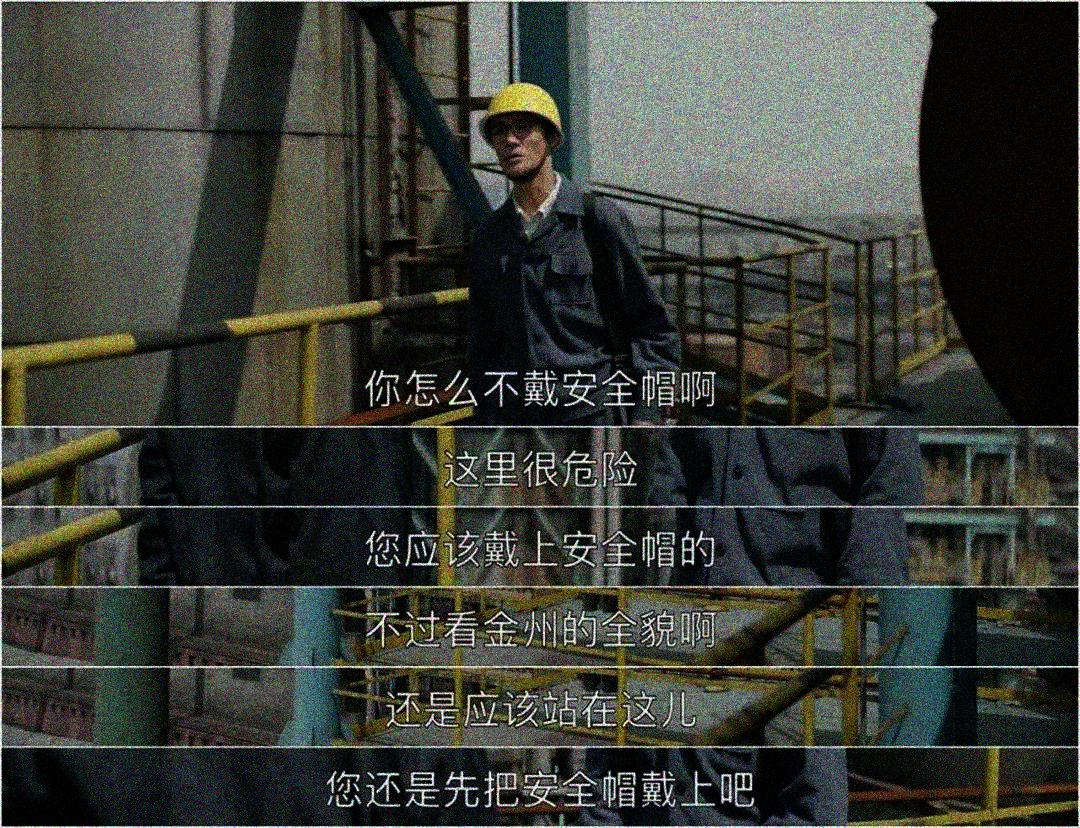helmet: (479, 82, 571, 177)
